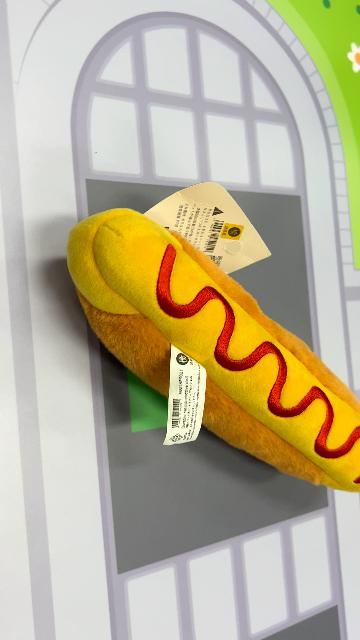hotdog: (66, 206, 358, 494)
